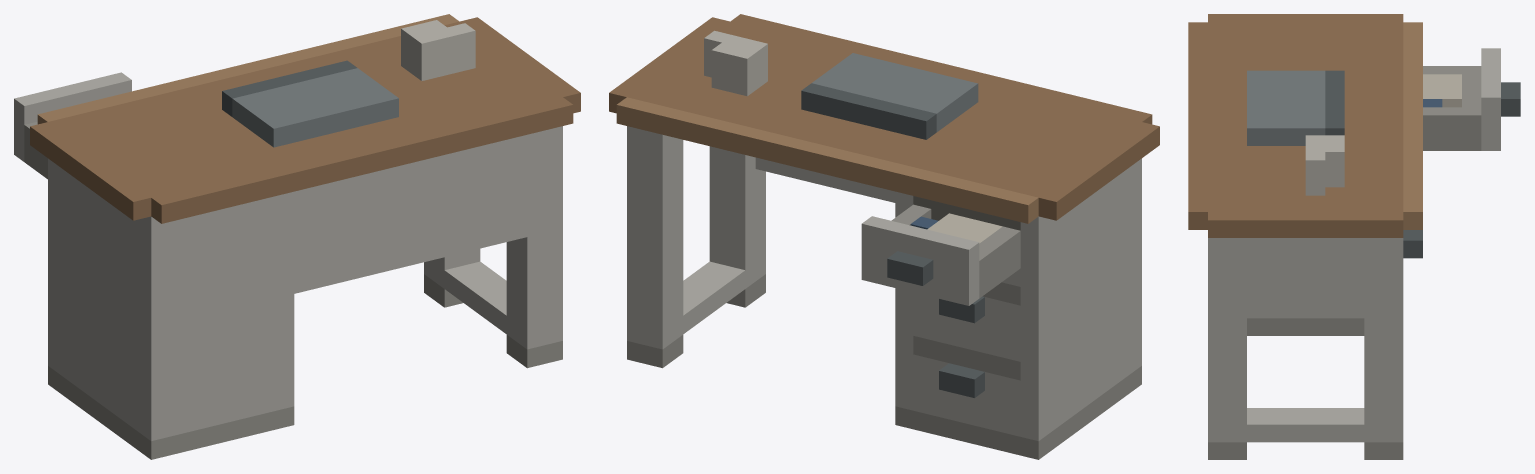
The model's file is Claude_small_desk.glb.
The picture shows the model from 3 angles, left to right: view 1: azimuth 30°, elevation 25°; view 2: azimuth 150°, elevation 25°; view 3: azimuth 270°, elevation 25°; orthographic projection. The views are drawn at different scales.
Parts seen in each view (by area): view 1: Claude_small_desk; view 2: Claude_small_desk; view 3: Claude_small_desk.
Part boxes in pixels (box(x1,y1,x2,y2)): Claude_small_desk: box(14, 14, 580, 459); Claude_small_desk: box(609, 14, 1159, 459); Claude_small_desk: box(1188, 14, 1520, 459).
Bounding box in the file's own units: 1.25 × 0.8 × 0.85.
